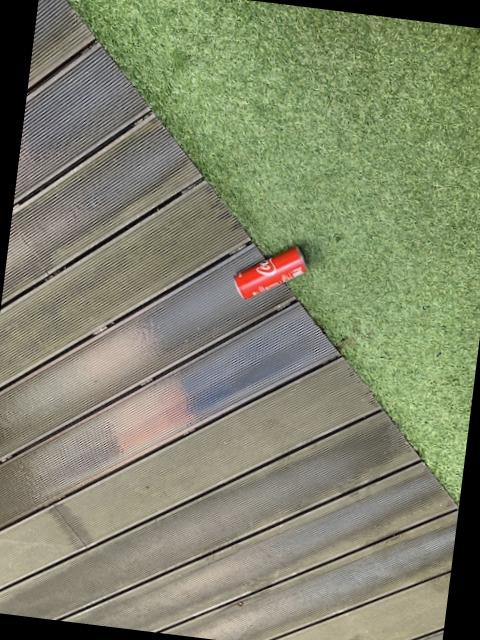metal: (234, 246, 305, 297)
